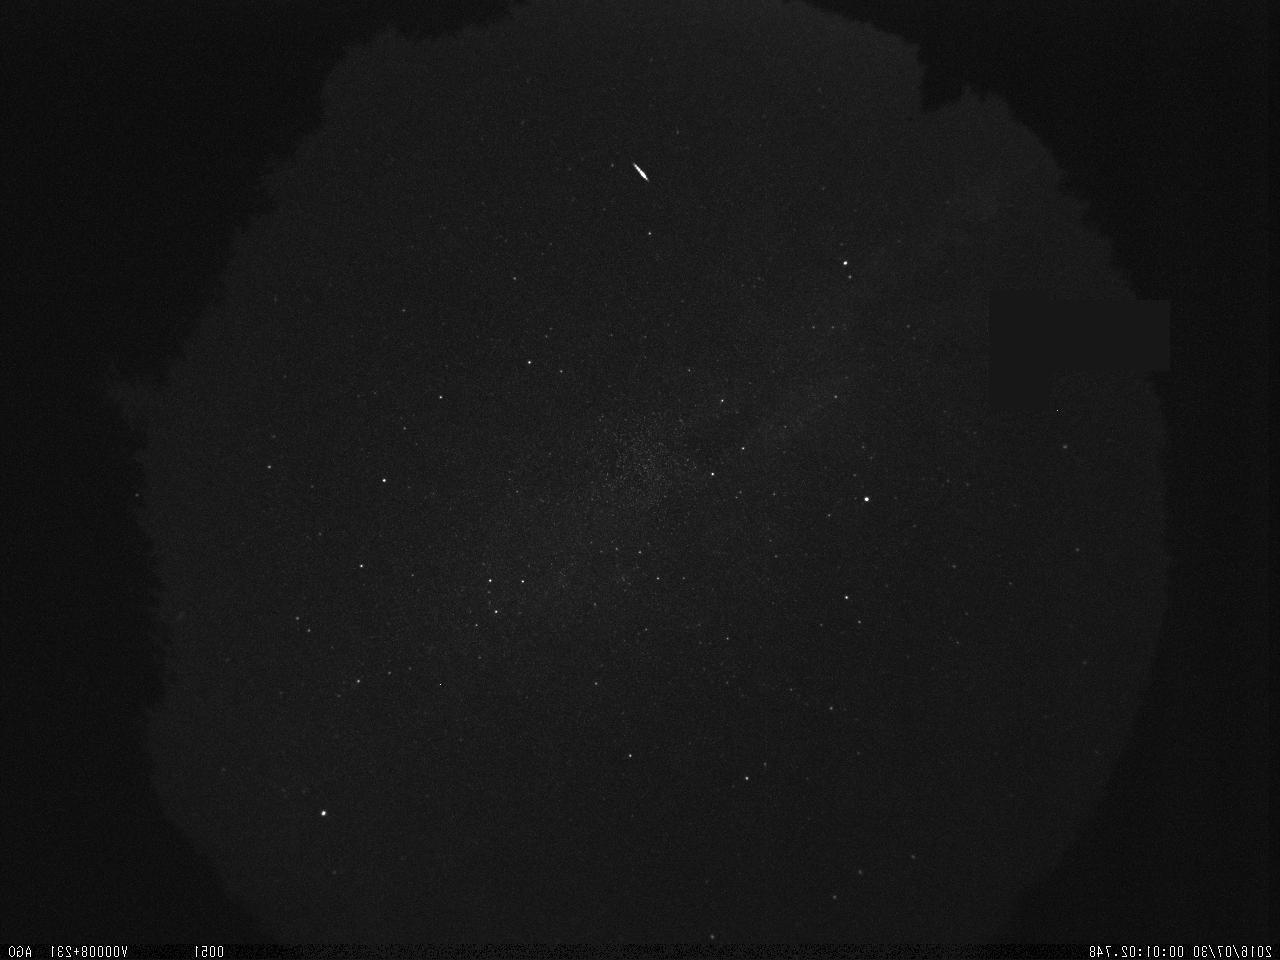meteor: (620, 149, 663, 194)
